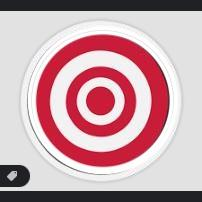target_red: (20, 19, 181, 180)
